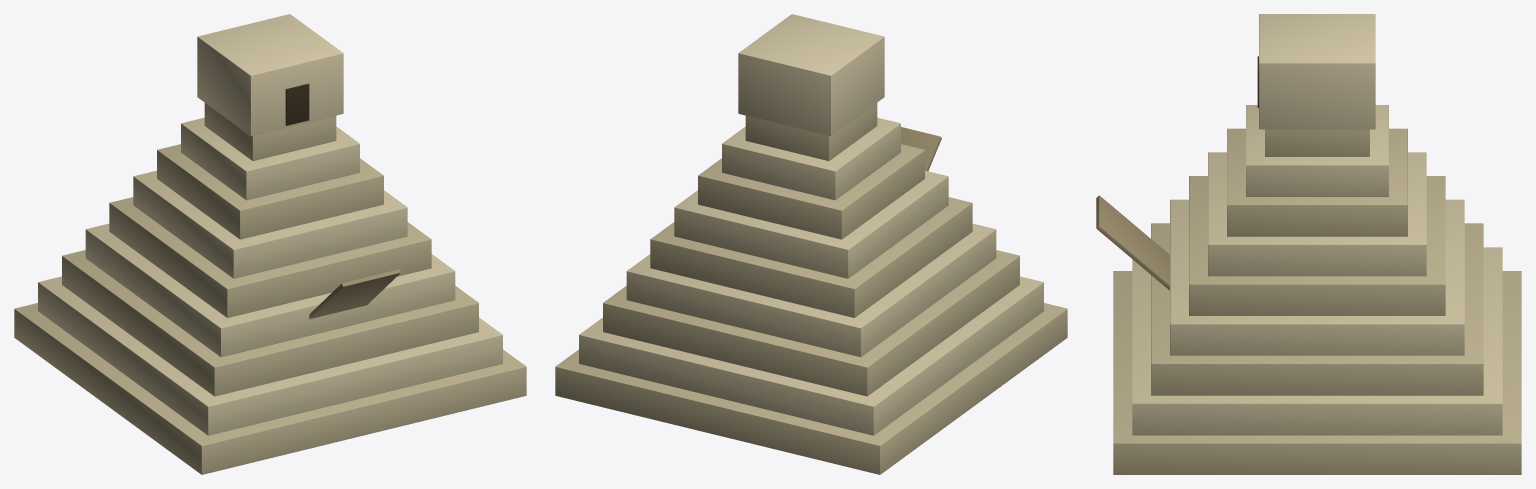
The model's file is marco_chichenitza.glb.
3 renders of one model, left to right at view 1: azimuth 30°, elevation 25°; view 2: azimuth 150°, elevation 25°; view 3: azimuth 270°, elevation 25°, orthographic. The views are drawn at different scales.
Visible parts, largest first — view 1: marco_chichenitza; view 2: marco_chichenitza; view 3: marco_chichenitza.
Boxes of the visible parts, box(x1,y1,x2,y2) form: marco_chichenitza: box(14, 14, 526, 474); marco_chichenitza: box(555, 14, 1067, 474); marco_chichenitza: box(1096, 14, 1521, 474).
Size of the model in its own units: 28 by 26.5 by 29.15.
